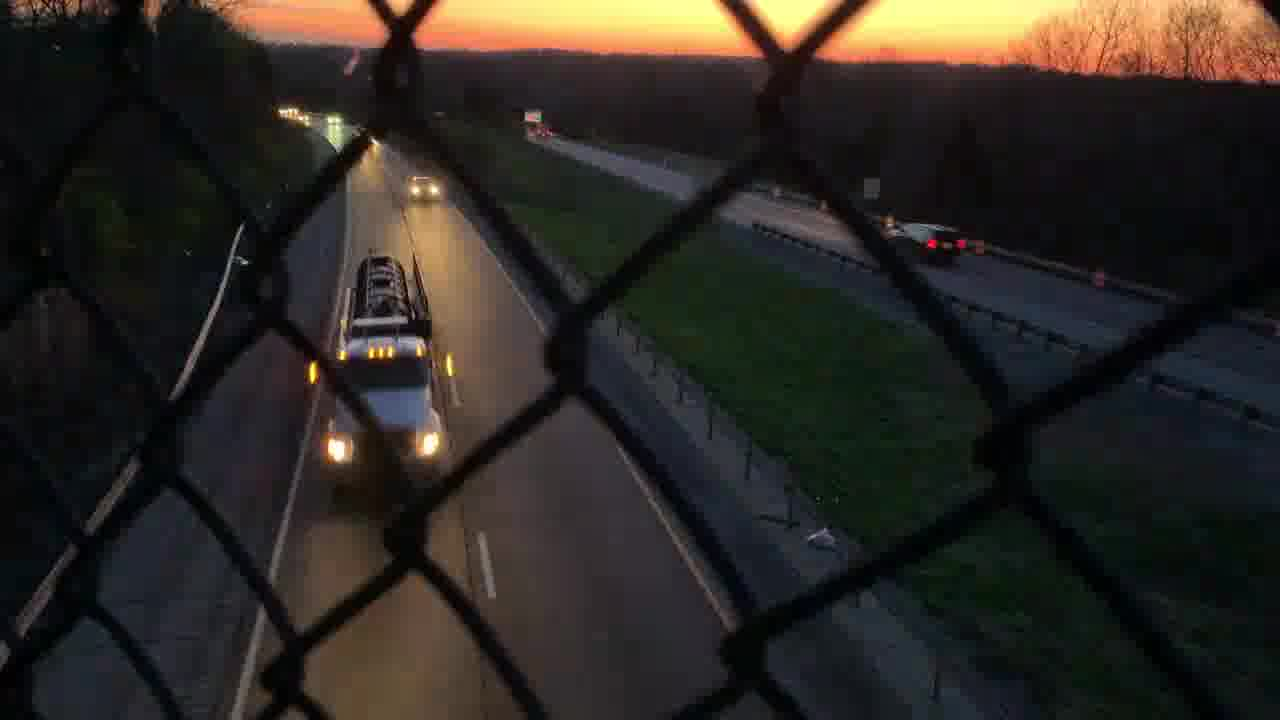heavyTruck: (324, 246, 441, 480)
largeCar: (888, 219, 966, 270), (402, 174, 444, 205)
